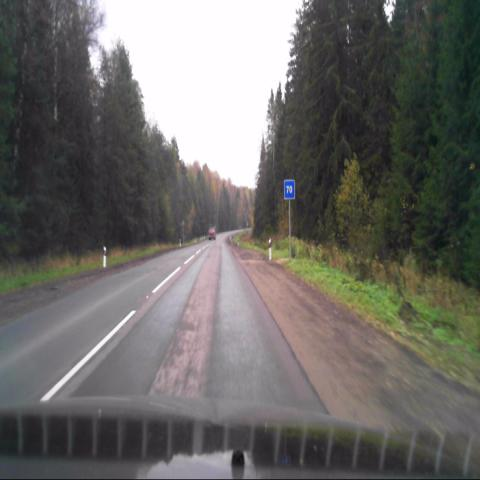6_2: (283, 179, 295, 200)
